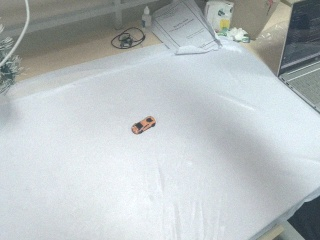toy_car: (127, 114, 160, 138)
